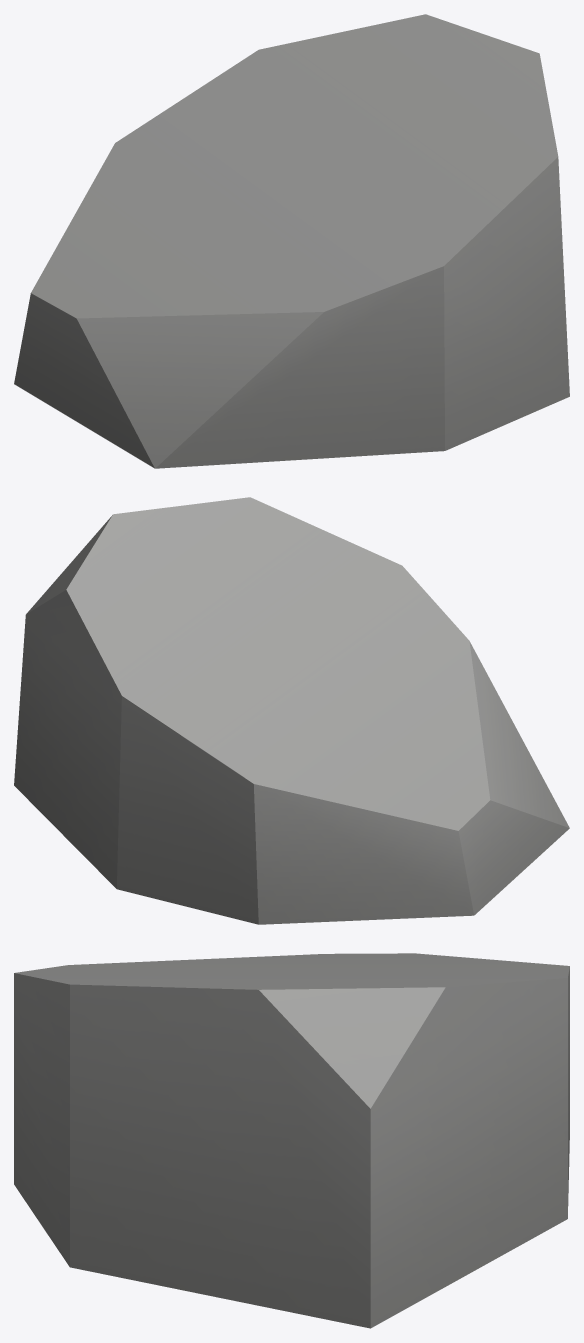
File: Cavern_RockSml-01.fbx
The picture shows the model from 3 angles, top to bottom: view 1: azimuth 30°, elevation 25°; view 2: azimuth 150°, elevation 25°; view 3: azimuth 270°, elevation 25°; orthographic projection. The views are drawn at different scales.
Parts seen in each view (by area): view 1: Cavern_RockSml-01; view 2: Cavern_RockSml-01; view 3: Cavern_RockSml-01.
Part boxes in pixels (<box>): Cavern_RockSml-01: <box>14,14,569,468</box>; Cavern_RockSml-01: <box>14,497,569,924</box>; Cavern_RockSml-01: <box>14,953,569,1328</box>.
Bounding box in the file's own units: 70.26 × 35.19 × 57.81.
1 material, 1 textured.
